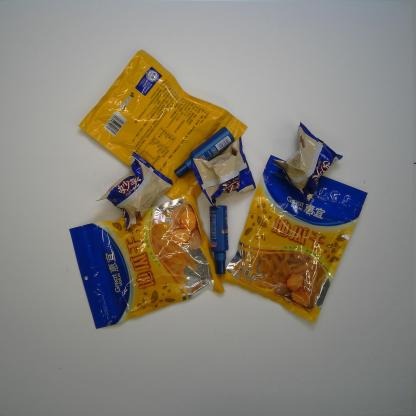Dessert: (96, 150, 172, 232), (271, 121, 344, 201), (191, 135, 257, 209)
Dried Fruit: (77, 49, 249, 205), (221, 154, 370, 324), (68, 192, 225, 330)
Personal Hygiene: (173, 127, 235, 180), (208, 204, 229, 275)
